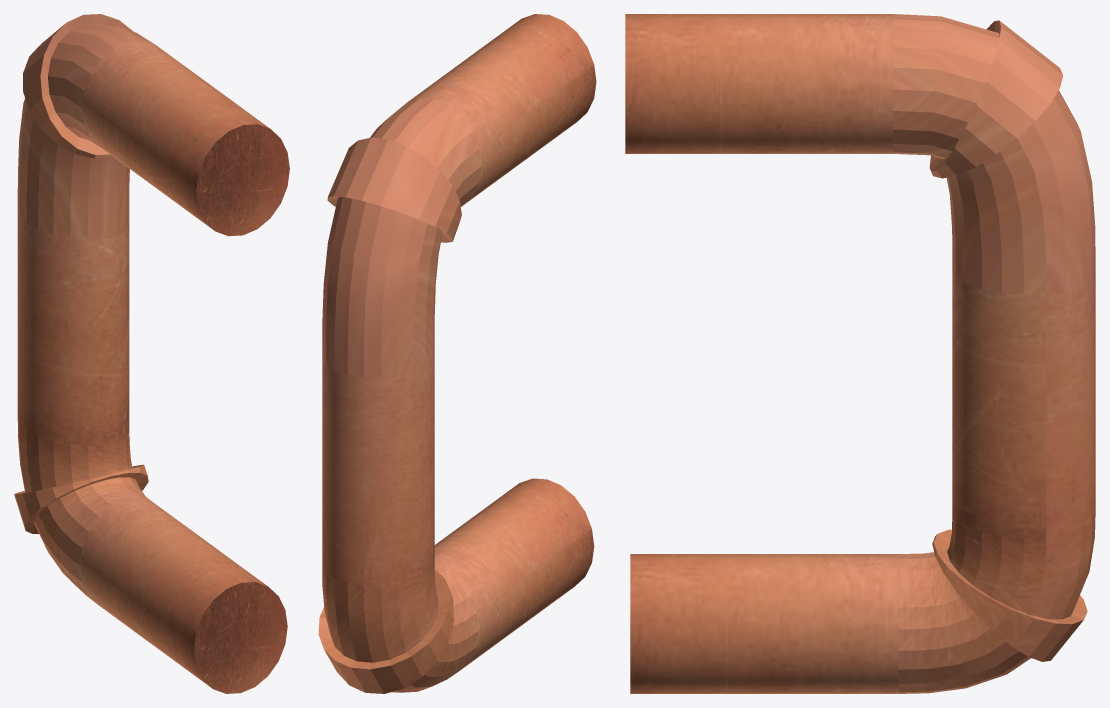
File: LVL_Wall_Pipe.fbx
3 views of the same model, side by side, from view 1: azimuth 30°, elevation 25°; view 2: azimuth 150°, elevation 25°; view 3: azimuth 270°, elevation 25° (orthographic). The views are drawn at different scales.
Parts seen in each view (by area): view 1: Pipe; view 2: Pipe; view 3: Pipe.
Boxes of the visible parts, bbox=[...] form: Pipe: bbox=[14, 14, 289, 693]; Pipe: bbox=[318, 14, 596, 693]; Pipe: bbox=[625, 14, 1095, 693].
Bounding box in the file's own units: 137 × 657 × 418.
1 material, 1 textured.
